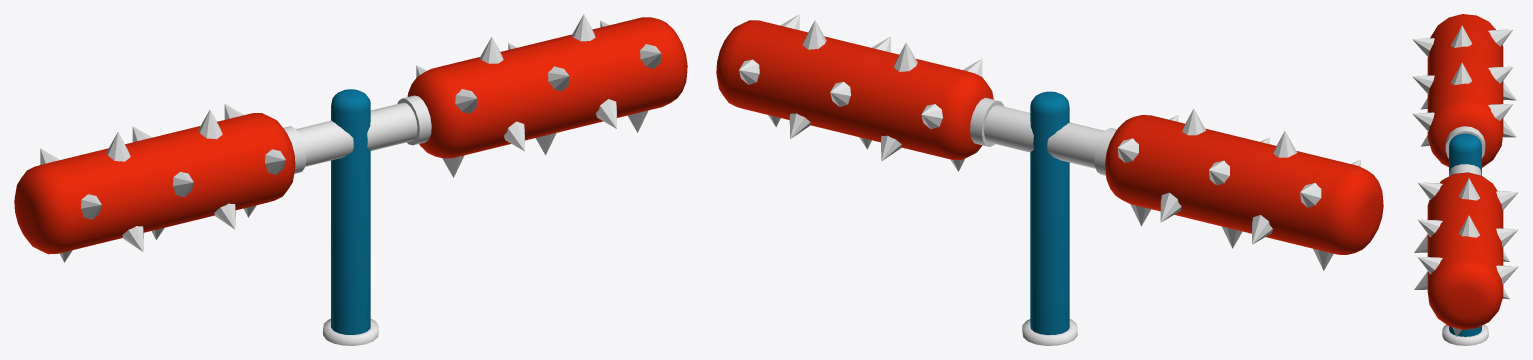
Rendered from Obs_7.fbx.
3 renders of one model, left to right at view 1: azimuth 30°, elevation 25°; view 2: azimuth 150°, elevation 25°; view 3: azimuth 270°, elevation 25°, orthographic. The views are drawn at different scales.
Visible parts, largest first — view 1: Obs_7; view 2: Obs_7; view 3: Obs_7.
Part boxes in pixels (x1,y1,x2,y2): Obs_7: (14, 14, 687, 345); Obs_7: (716, 14, 1383, 345); Obs_7: (1412, 14, 1518, 345).
Bounding box in the file's own units: 3.28 × 1.26 × 0.5664.
